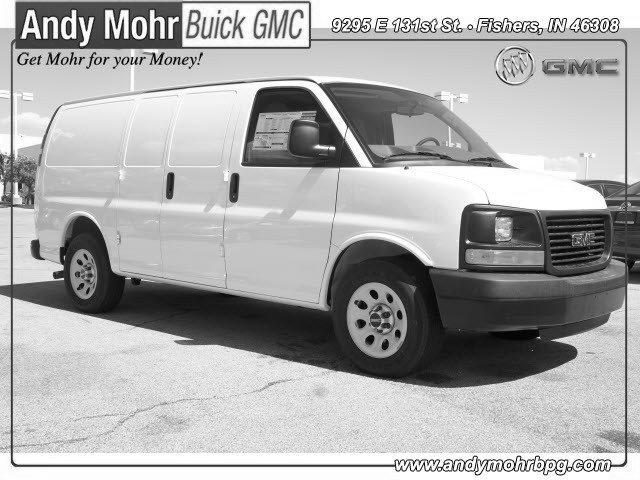car: (27, 79, 629, 375)
